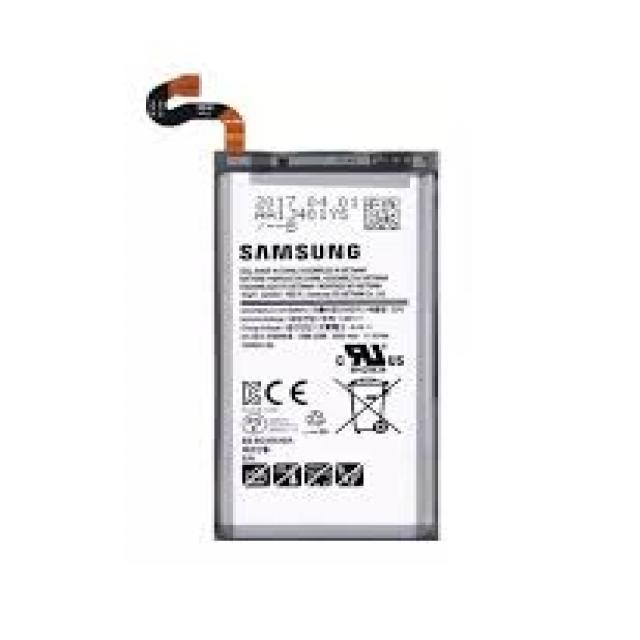hazard: (136, 67, 444, 541)
